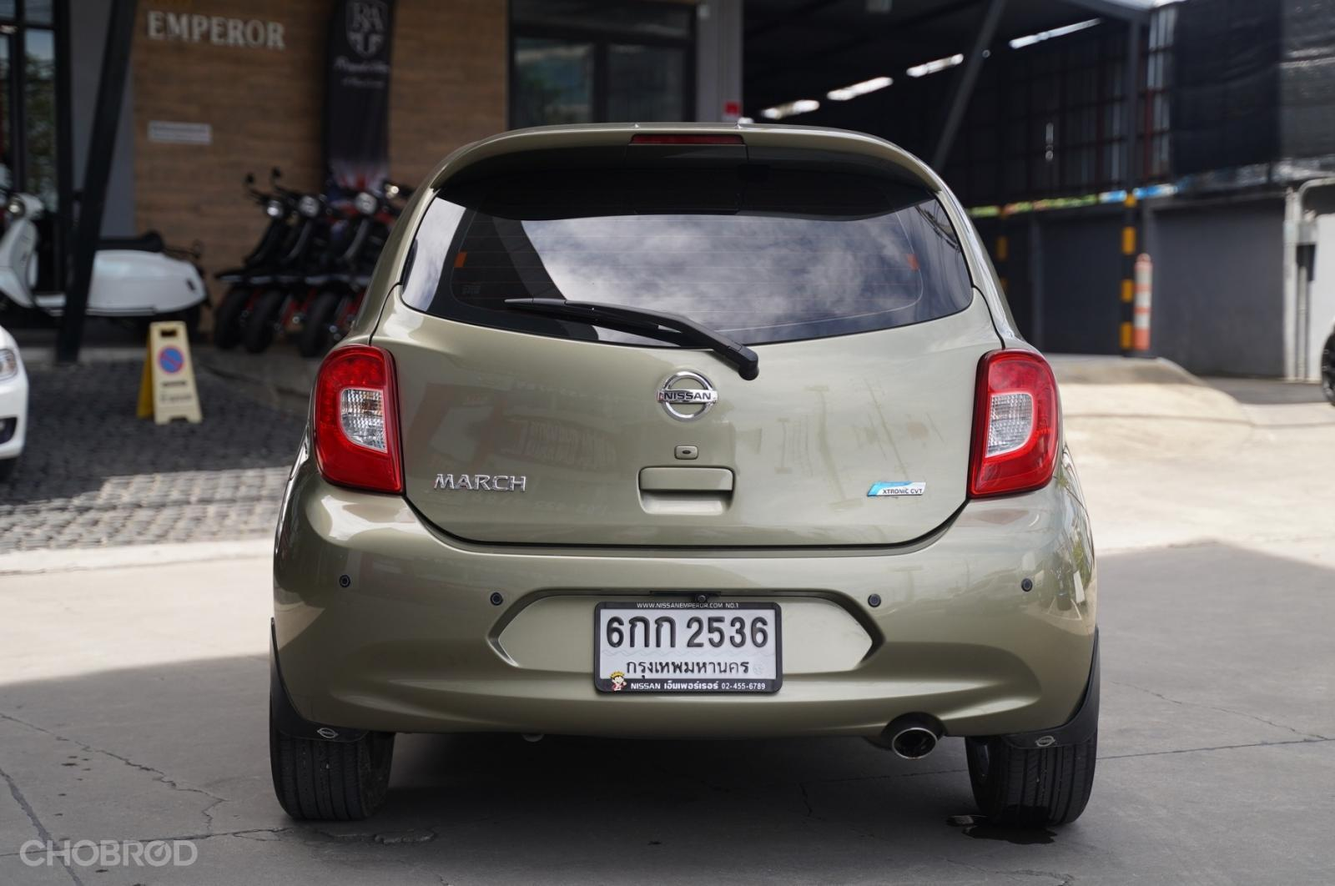license-plate: (588, 588, 789, 702)
